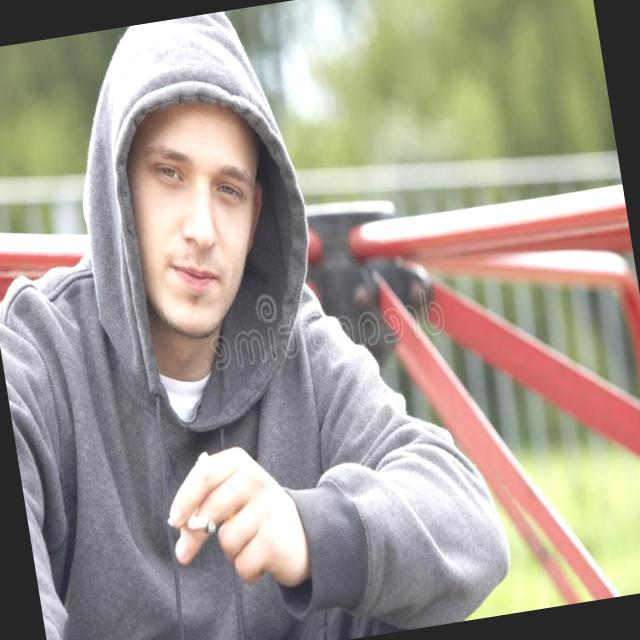cigarette: (159, 495, 232, 548)
